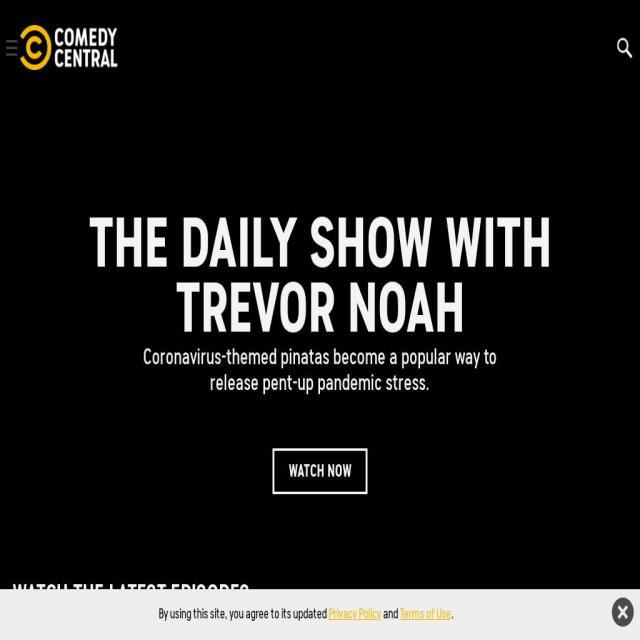options: (6, 34, 22, 64)
search: (608, 32, 638, 65)
